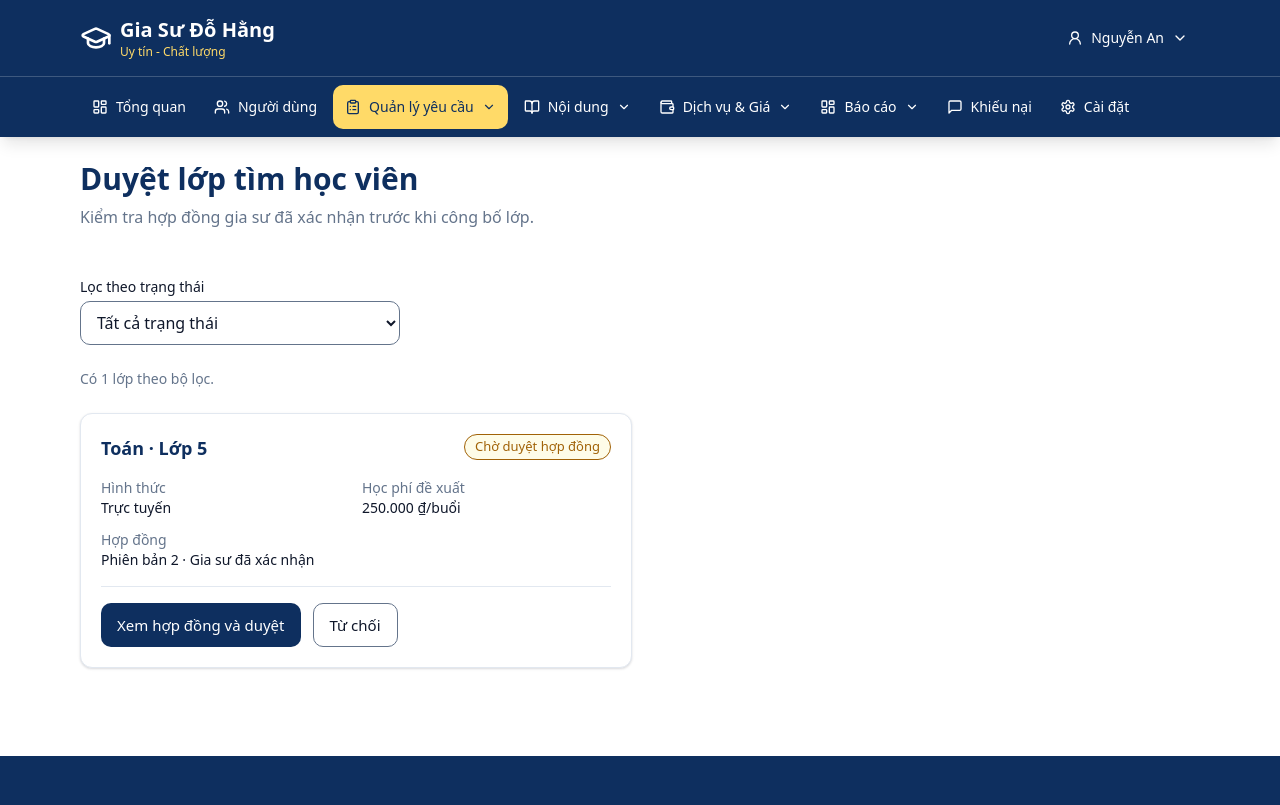
Test: tutor posted classes › lets a moderator inspect the acknowledged contract before publishing
Click the button "Xem hợp đồng và duyệt". click: [201, 625]
box: [101, 603, 300, 647]
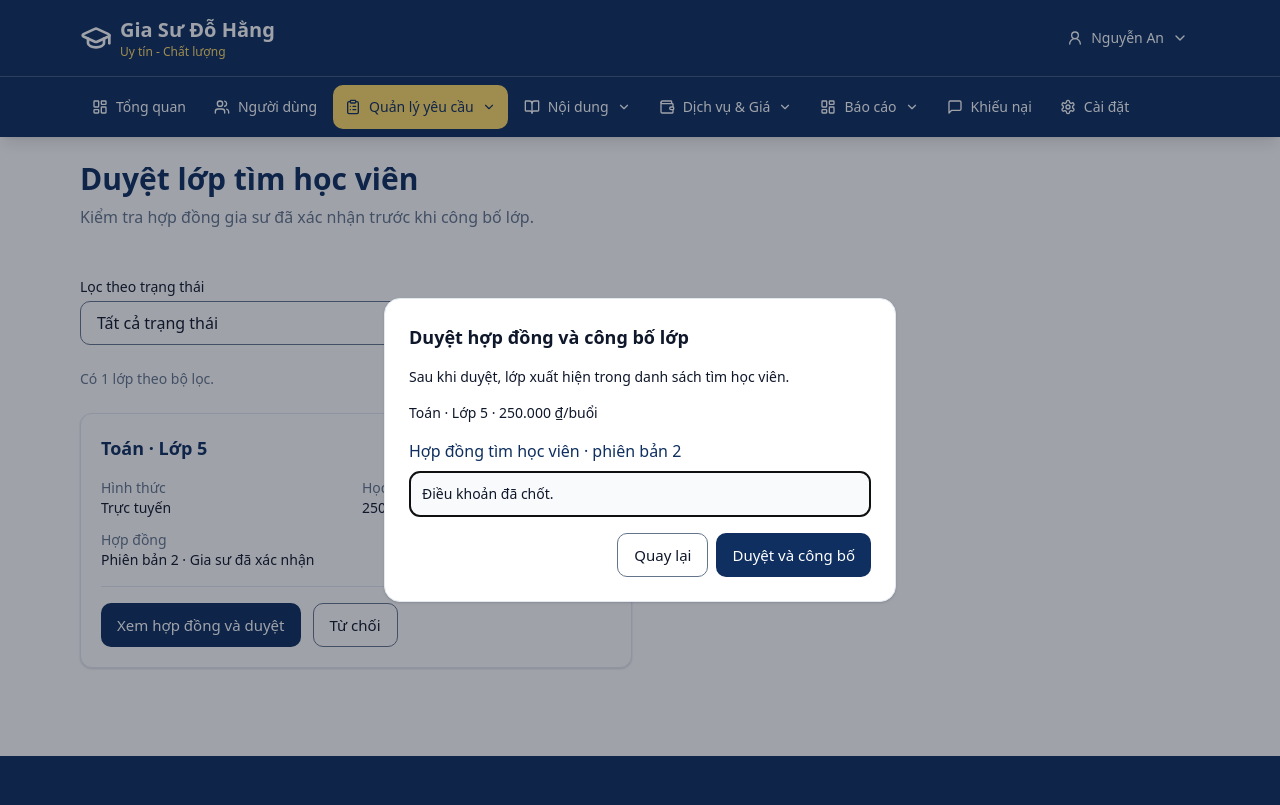
Expected: the text "Điều khoản đã chốt." is shown, [409, 471, 871, 517]
Click the button "Duyệt và công bố". click: [794, 555]
box: [716, 533, 871, 577]
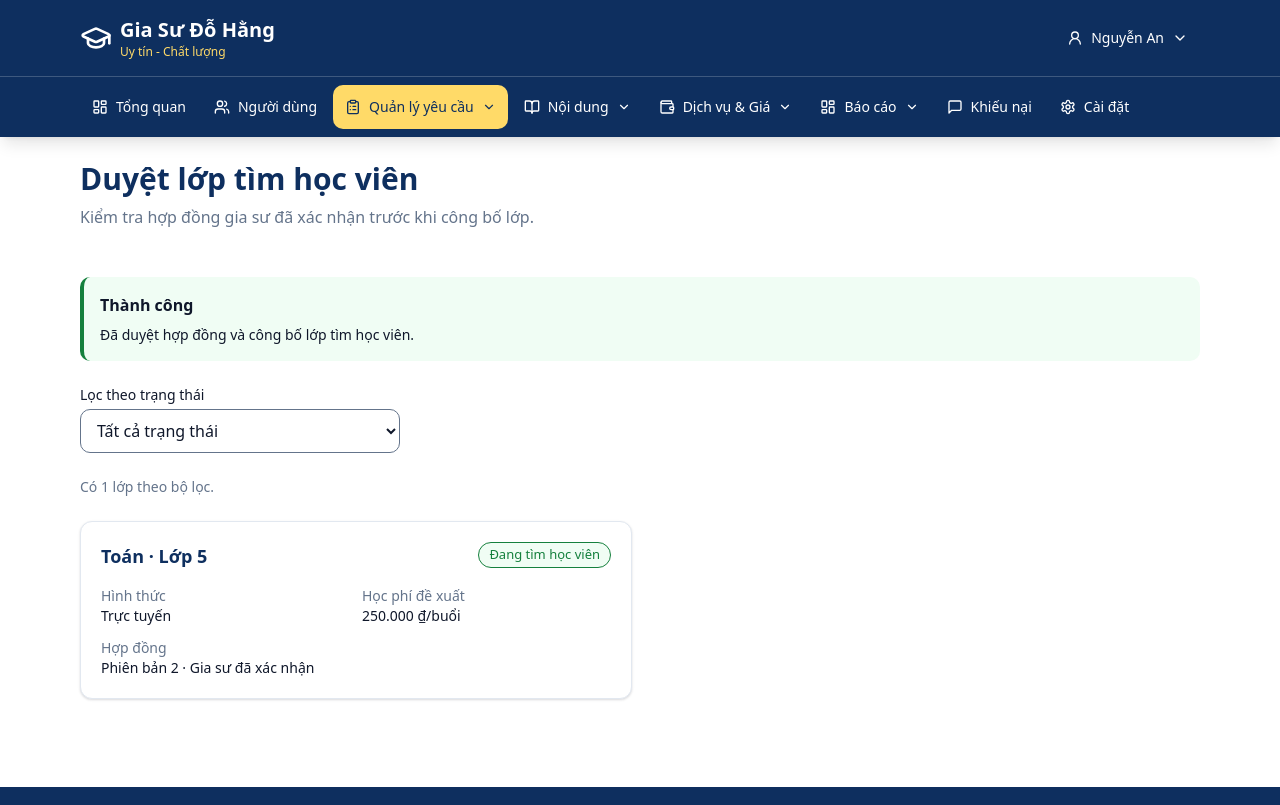
Expected: the text "Đã duyệt hợp đồng và công bố lớp tìm học viên." is shown, [100, 325, 414, 344]
